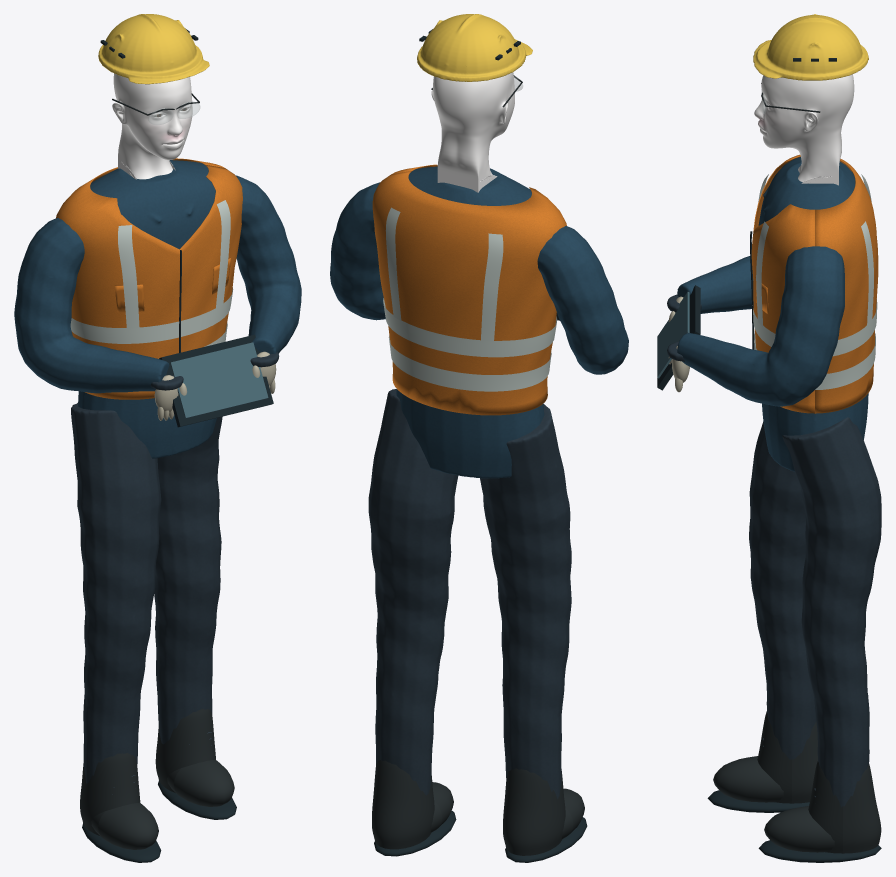
Rendered from Operario_3.glb.
3 views of the same model, side by side, from view 1: azimuth 30°, elevation 25°; view 2: azimuth 150°, elevation 25°; view 3: azimuth 270°, elevation 25° (orthographic). The views are drawn at different scales.
Visible parts, largest first — view 1: Tejido_1.002, Tejido_5.002, Chaleco_6.002, Herraje_3.002, Cabeza anatómica 3, Piel_12.001, Herraje_7.002, Herraje_14.001, Herraje_4.002, Tejido_13.002; view 2: Tejido_1.002, Chaleco_6.002, Tejido_5.002, Herraje_3.002, Herraje_7.002, Cabeza anatómica 3, Piel_12.001, Herraje_4.002; view 3: Tejido_1.002, Tejido_5.002, Chaleco_6.002, Herraje_3.002, Cabeza anatómica 3, Piel_12.001, Herraje_4.002, Herraje_7.002, Herraje_14.001, Tejido_13.002.
Boxes of the visible parts, box(x1,y1,x2,y2) form: Tejido_1.002: box(71, 352, 279, 783); Tejido_5.002: box(14, 160, 301, 458); Chaleco_6.002: box(56, 158, 242, 399); Herraje_3.002: box(80, 709, 234, 849); Cabeza anatómica 3: box(112, 73, 192, 179); Piel_12.001: box(98, 14, 209, 84); Herraje_7.002: box(70, 200, 233, 346); Herraje_14.001: box(170, 342, 268, 418); Herraje_4.002: box(82, 28, 273, 862); Tejido_13.002: box(154, 351, 276, 420); Tejido_1.002: box(368, 389, 571, 798); Chaleco_6.002: box(372, 164, 566, 415); Tejido_5.002: box(330, 166, 628, 478); Herraje_3.002: box(372, 760, 584, 855); Herraje_7.002: box(383, 207, 557, 391); Cabeza anatómica 3: box(431, 72, 514, 192); Piel_12.001: box(417, 14, 532, 81); Herraje_4.002: box(374, 29, 587, 862); Tejido_1.002: box(667, 294, 881, 807); Tejido_5.002: box(677, 157, 868, 471); Chaleco_6.002: box(751, 154, 878, 413); Herraje_3.002: box(713, 711, 881, 853); Cabeza anatómica 3: box(754, 74, 854, 185); Piel_12.001: box(753, 14, 868, 80); Herraje_4.002: box(657, 58, 881, 862); Herraje_7.002: box(752, 174, 877, 389); Herraje_14.001: box(657, 292, 689, 378); Tejido_13.002: box(668, 296, 689, 392).
Size of the model in its own units: 0.6283 by 1.76 by 0.4408.
Materials: 21 (5 with a texture image).
